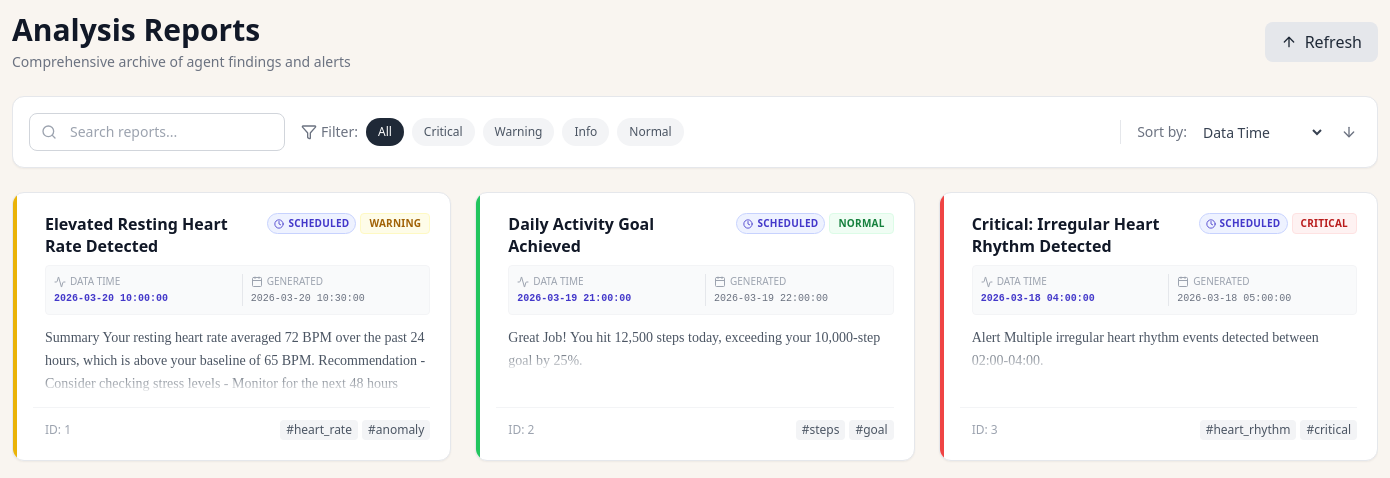
it: ReportsView › filters reports by alert level when filter button is clicked
Expected: the heading "Elevated Resting Heart Rate Detected" is shown, [45,213,259,257]
Click "Critical" filter button
What coordinates should you click on to do the following:
click the button "Critical"
I would click on:
 (443, 132)
Its box is [412,118,475,146].
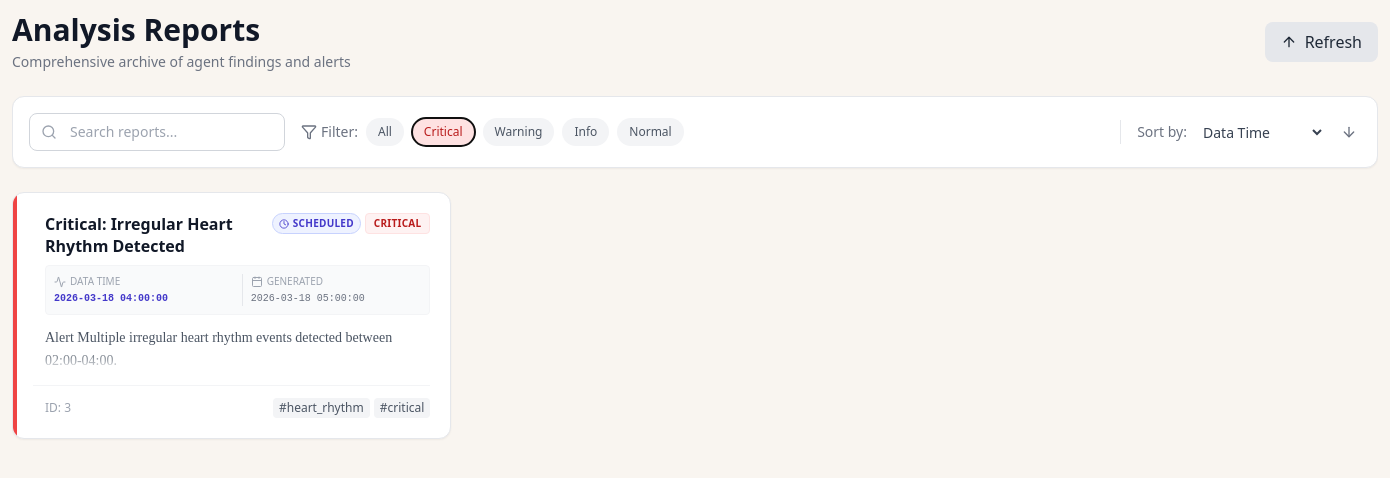
Expected: the heading "Critical: Irregular Heart Rhythm Detected" is shown, [45,213,264,257]
Result: the heading "Elevated Resting Heart Rate Detected" is gone
Result: the heading "Daily Activity Goal Achieved" is gone
